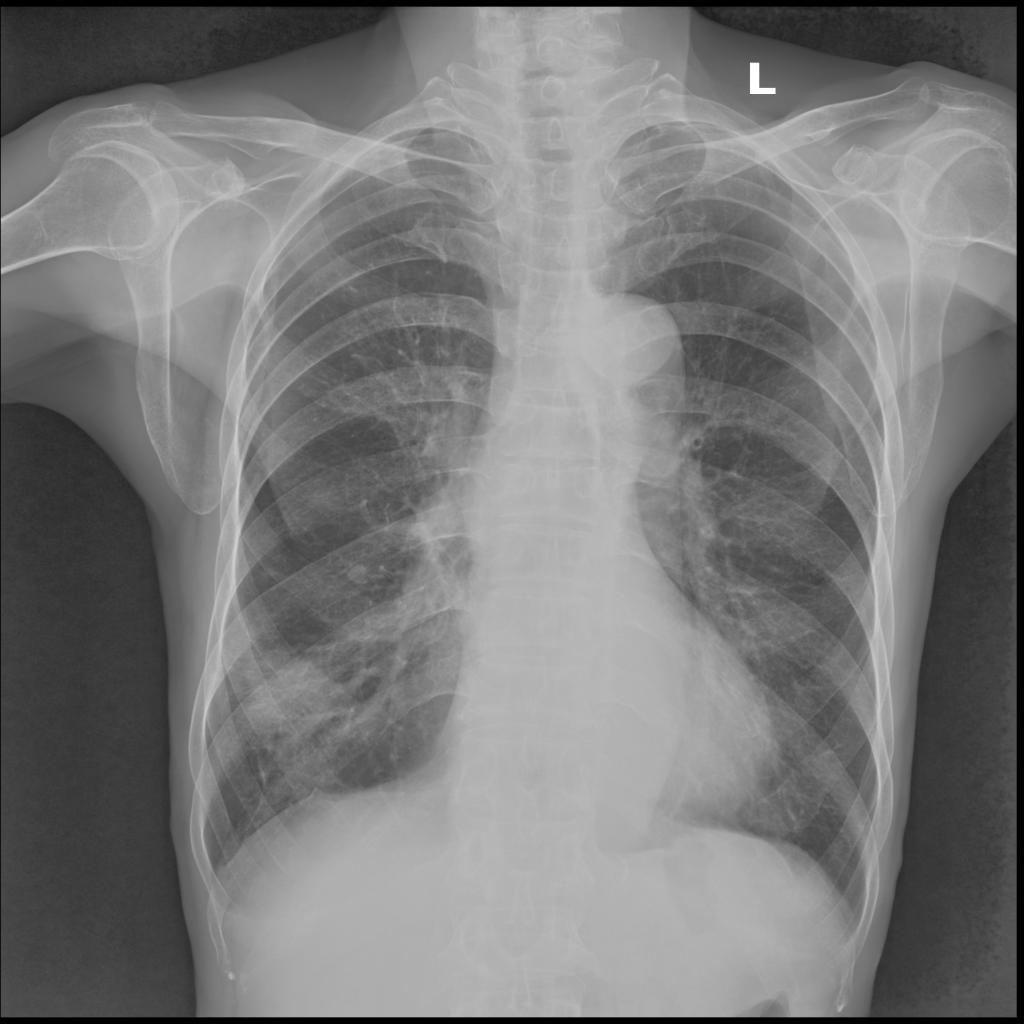Nodule: (241, 655, 348, 751), (346, 564, 368, 585)
